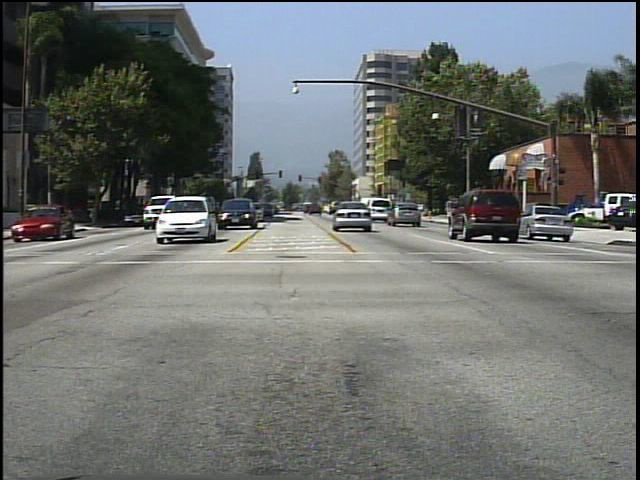person: (480, 194, 499, 229), (443, 193, 460, 228)
